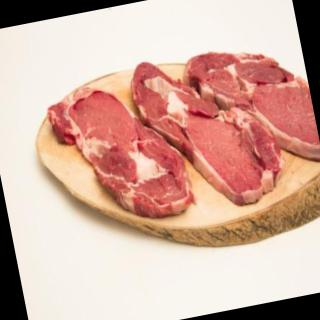Daging Sapi: (130, 40, 291, 222), (44, 72, 197, 233), (185, 36, 320, 183)
